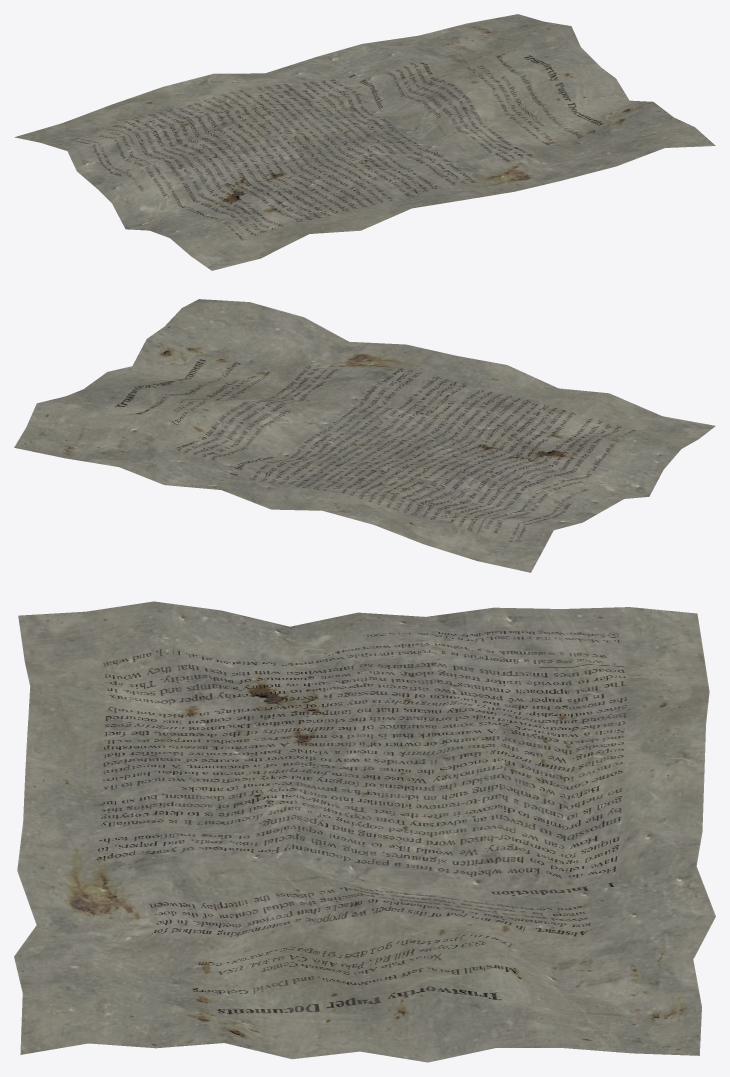
Rendered from TrashPaper_01.FBX.
3 renders of one model, top to bottom at view 1: azimuth 30°, elevation 25°; view 2: azimuth 150°, elevation 25°; view 3: azimuth 270°, elevation 25°, orthographic. The views are drawn at different scales.
Parts seen in each view (by area): view 1: TrashPaper01; view 2: TrashPaper01; view 3: TrashPaper01.
Part boxes in pixels (x1=…): TrashPaper01: x1=14, y1=14, x2=715, y2=270; TrashPaper01: x1=14, y1=299, x2=715, y2=572; TrashPaper01: x1=14, y1=601, x2=715, y2=1062.
Bounding box in the file's own units: 81.49 × 3.57 × 52.89.
Materials: 1 (1 with a texture image).
